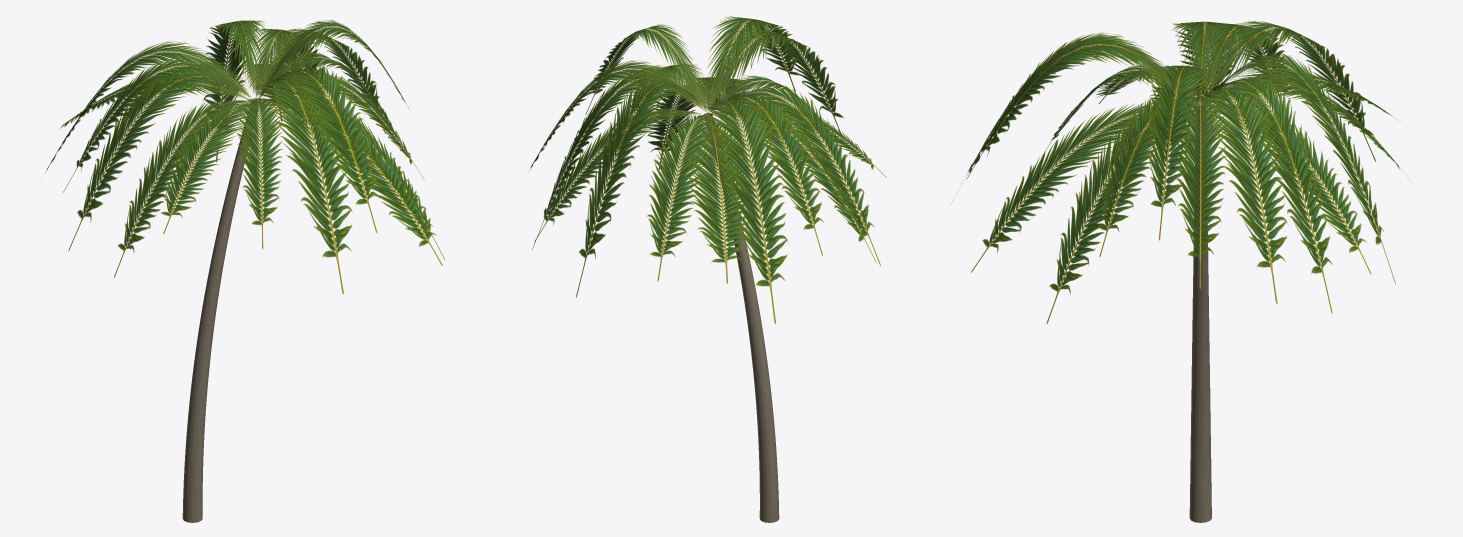
File: coconut_palm_1.glb
The picture shows the model from 3 angles, left to right: view 1: azimuth 30°, elevation 25°; view 2: azimuth 150°, elevation 25°; view 3: azimuth 270°, elevation 25°; orthographic projection. The views are drawn at different scales.
Visible parts, largest first — view 1: PalmLeaves, PalmTrunk; view 2: PalmLeaves, PalmTrunk; view 3: PalmLeaves, PalmTrunk.
Part boxes in pixels (left/top/right/bottom): PalmLeaves: left=46, top=20, right=445, bottom=294; PalmTrunk: left=182, top=100, right=259, bottom=522; PalmLeaves: left=530, top=16, right=886, bottom=323; PalmTrunk: left=704, top=113, right=779, bottom=522; PalmLeaves: left=952, top=20, right=1412, bottom=323; PalmTrunk: left=1189, top=105, right=1211, bottom=522.
Bounding box in the file's own units: 9.28 × 11.29 × 10.07.
Materials: 2 (2 with a texture image).
